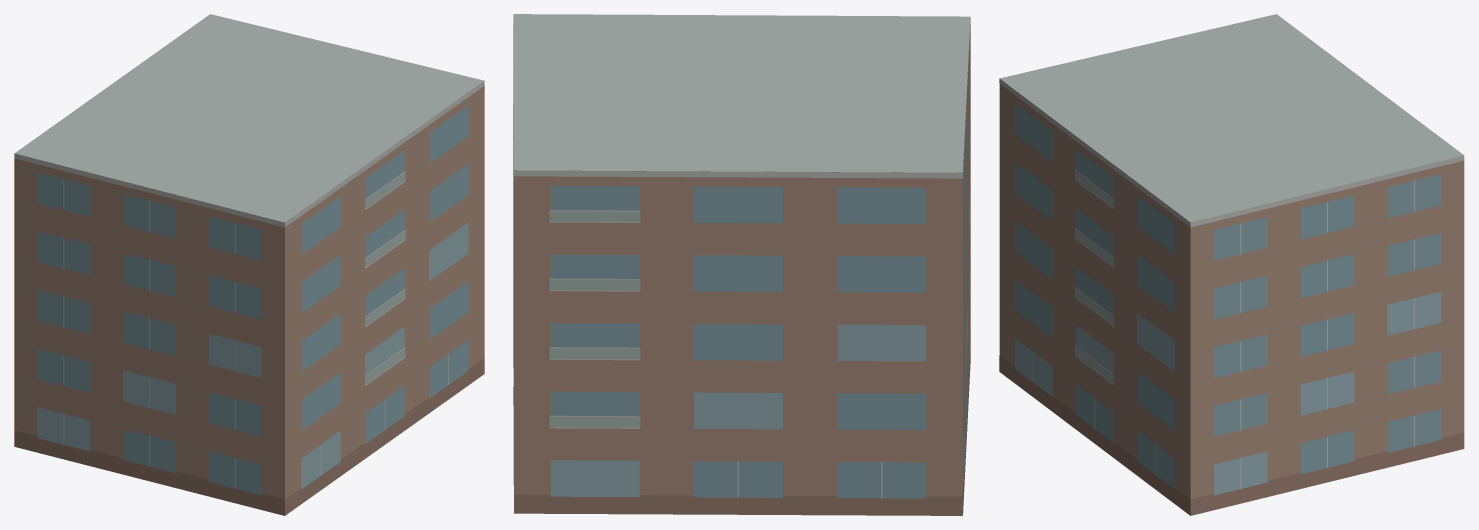
The model's file is survey-upis-32694499.glb.
3 views of the same model, side by side, from view 1: azimuth 30°, elevation 25°; view 2: azimuth 150°, elevation 25°; view 3: azimuth 270°, elevation 25° (orthographic). The views are drawn at different scales.
Visible parts, largest first — view 1: survey-upis-32694499.tmp; view 2: survey-upis-32694499.tmp; view 3: survey-upis-32694499.tmp.
Part boxes in pixels (left/top/right/bottom): survey-upis-32694499.tmp: left=14, top=14, right=484, bottom=515; survey-upis-32694499.tmp: left=513, top=14, right=970, bottom=515; survey-upis-32694499.tmp: left=999, top=14, right=1464, bottom=515.
Bounding box in the file's own units: 21.88 × 14.35 × 20.62.
